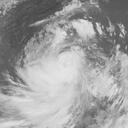cyclone: (1, 1, 125, 126)
